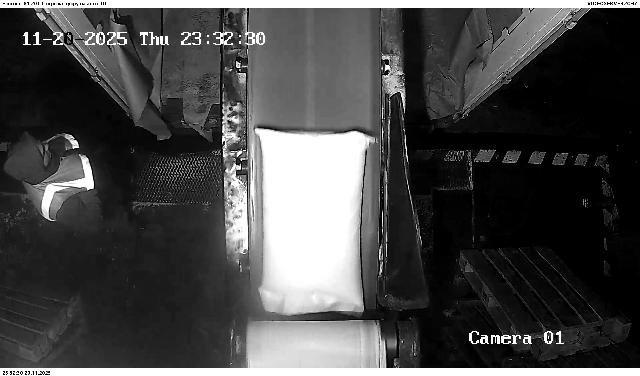bag: (254, 128, 376, 316)
